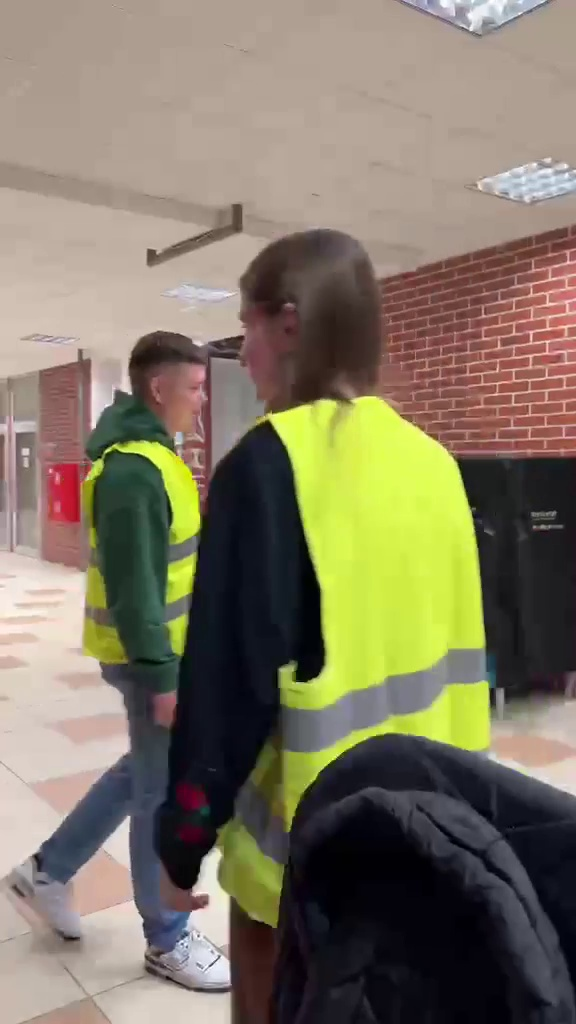vest: (214, 223, 509, 935), (29, 303, 234, 991)
